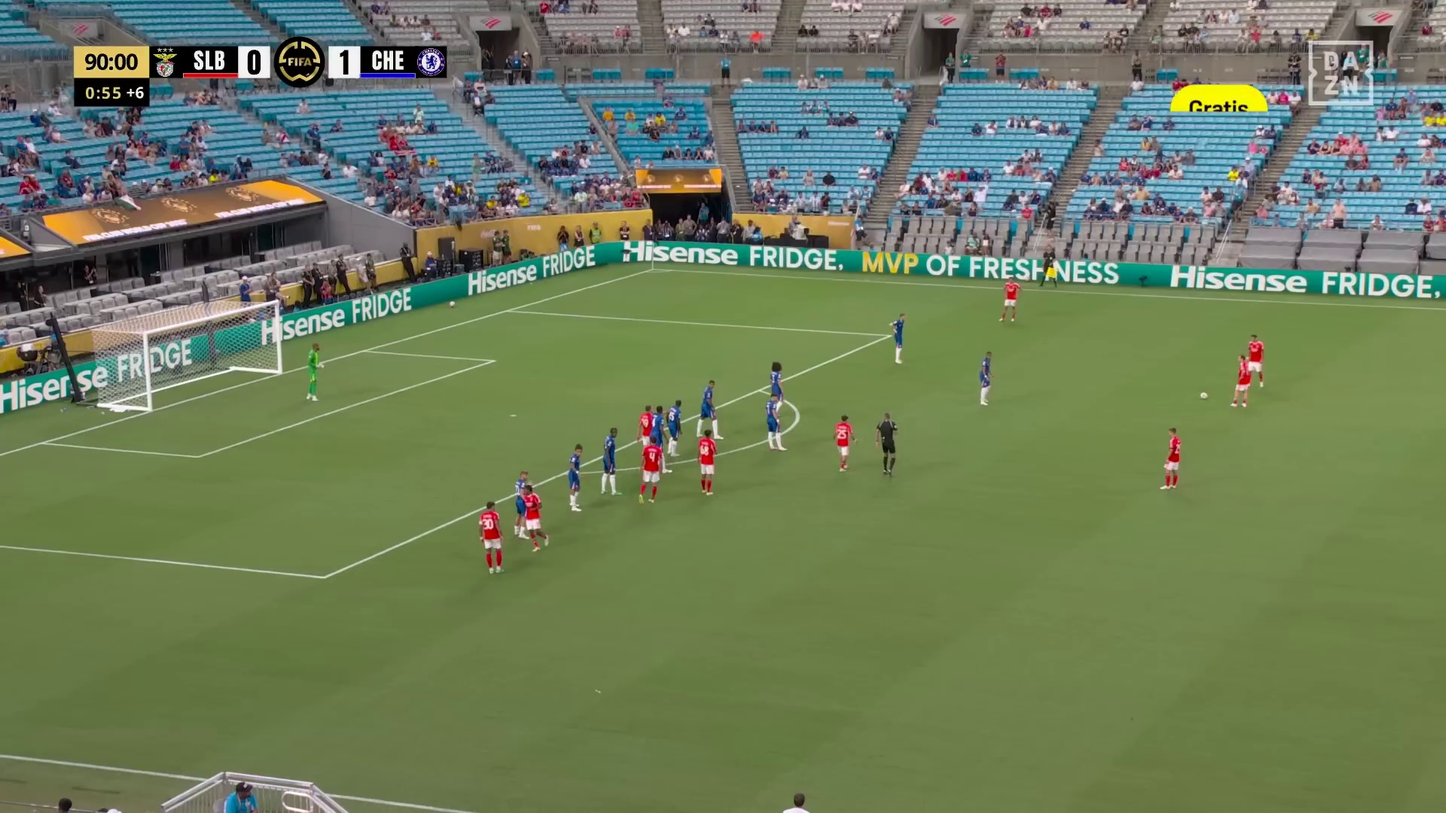ball: (1198, 390, 1211, 401)
player: (518, 484, 553, 554), (475, 500, 507, 576), (634, 437, 666, 505), (561, 443, 590, 514), (595, 425, 623, 496), (694, 378, 725, 440), (1157, 427, 1186, 492), (694, 429, 721, 498), (830, 413, 859, 473), (301, 342, 329, 404), (510, 469, 534, 534), (762, 393, 788, 452), (973, 350, 999, 408), (1229, 352, 1255, 410), (663, 398, 688, 458), (997, 275, 1025, 324), (1245, 333, 1269, 389), (763, 360, 790, 409), (887, 312, 911, 366), (650, 404, 669, 457), (635, 405, 655, 450)
referee: (873, 411, 903, 478), (1037, 238, 1060, 292)
